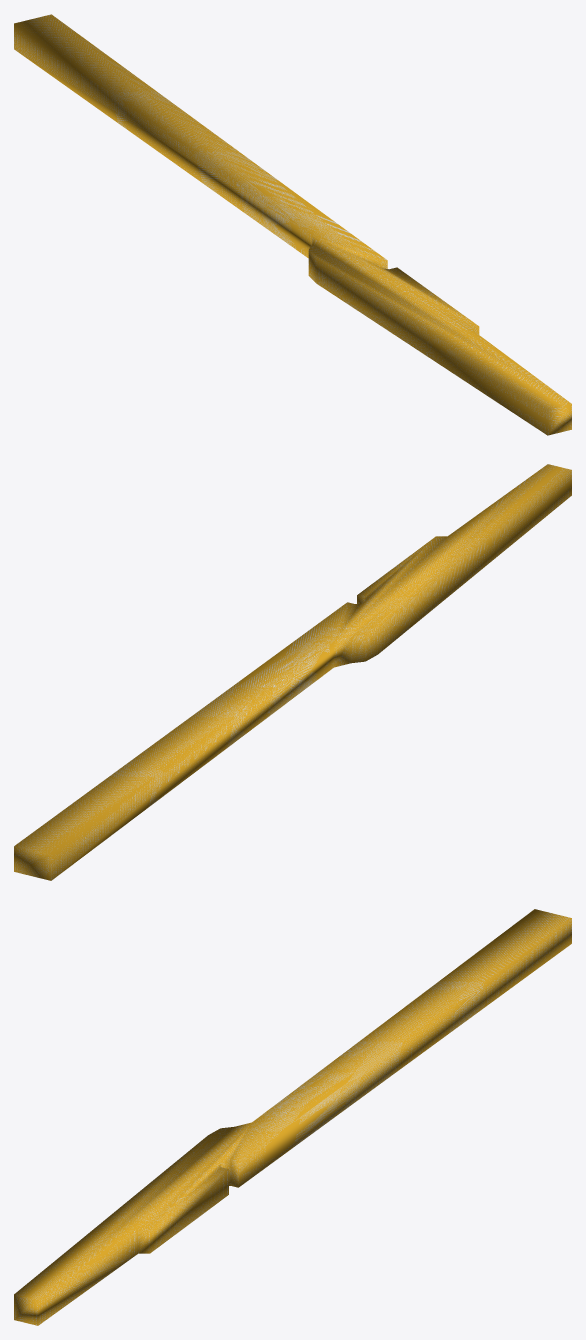
Rendered from original-32.obj.
3 renders of one model, top to bottom at view 1: azimuth 30°, elevation 25°; view 2: azimuth 150°, elevation 25°; view 3: azimuth 330°, elevation 25°, orthographic.
Parts seen in each view (by area): view 1: mesh28/mesh28-geometry#mesh28-geometry; view 2: mesh28/mesh28-geometry#mesh28-geometry; view 3: mesh28/mesh28-geometry#mesh28-geometry.
Boxes of the visible parts, left/top/right/bottom form: mesh28/mesh28-geometry#mesh28-geometry: left=14, top=14, right=571, bottom=435; mesh28/mesh28-geometry#mesh28-geometry: left=14, top=464, right=571, bottom=880; mesh28/mesh28-geometry#mesh28-geometry: left=14, top=909, right=571, bottom=1325.
Size of the model in its own units: 0.0555 by 0.0263 by 0.9806.
